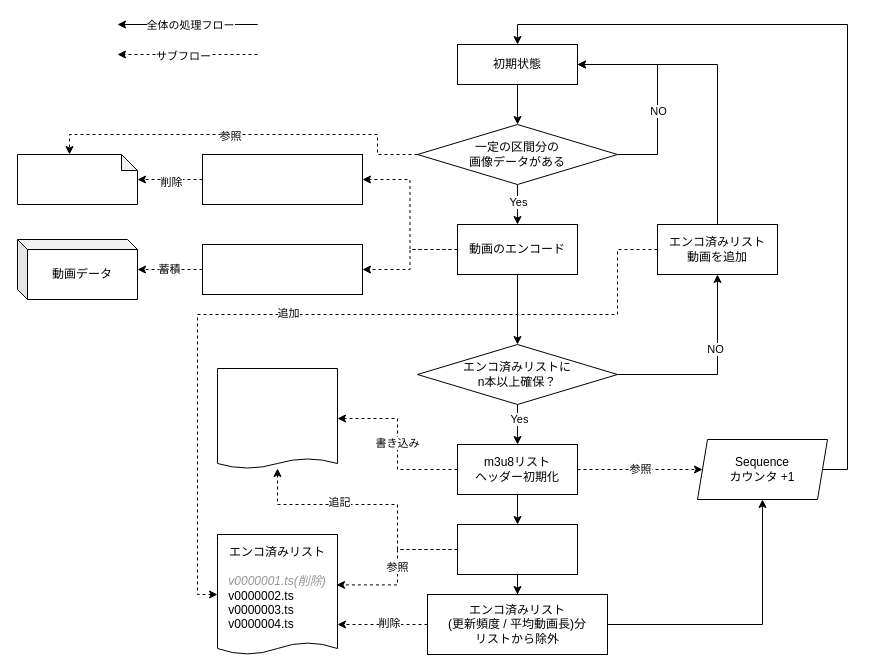
This 873x672 diagram has some shape labels left out. Each missing label, with the centre of its shape:
./ホスト名/日付/vXXXX.ts で保存ディレクトリを分断: point 282,269
m3u8リスト #EXTM3U .... v0000001.ts v0000002.ts: point 277,418
m3u8リスト 動画の追加: point 517,549
エンコードに使用 使用した画像を削除: point 282,179
連番画像データ: point 77,179
